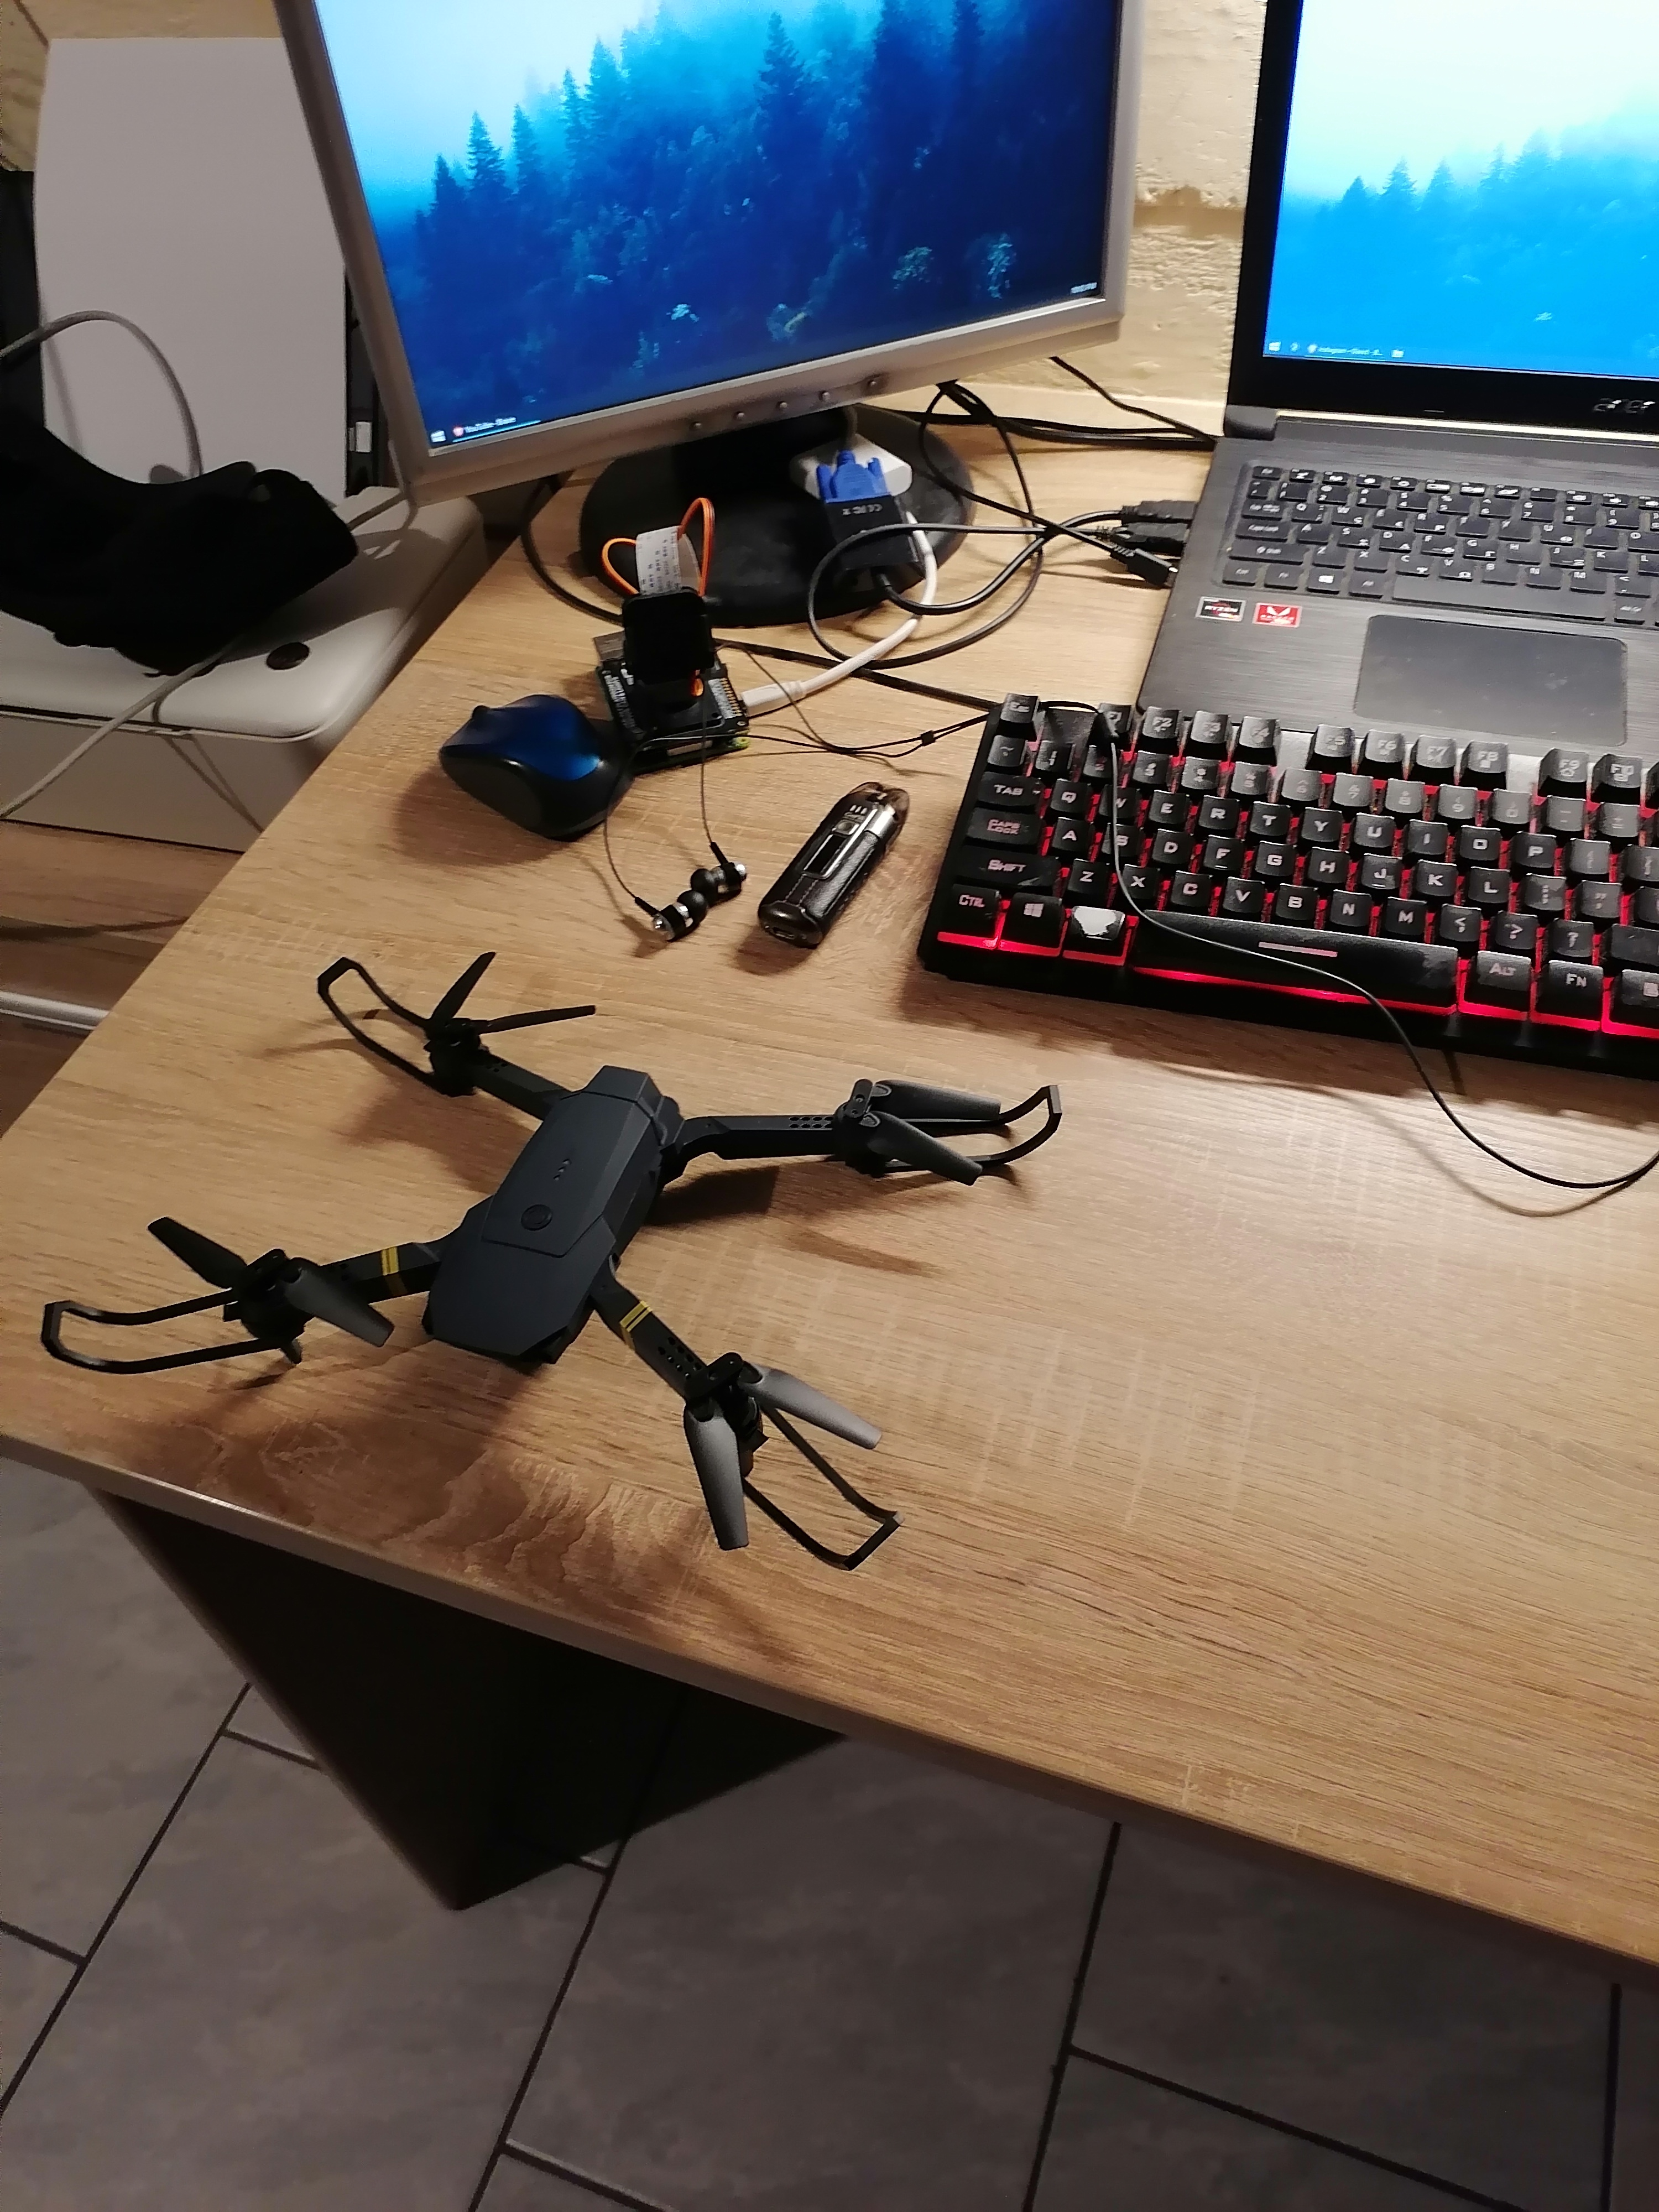drone: (37, 948, 950, 1618)
